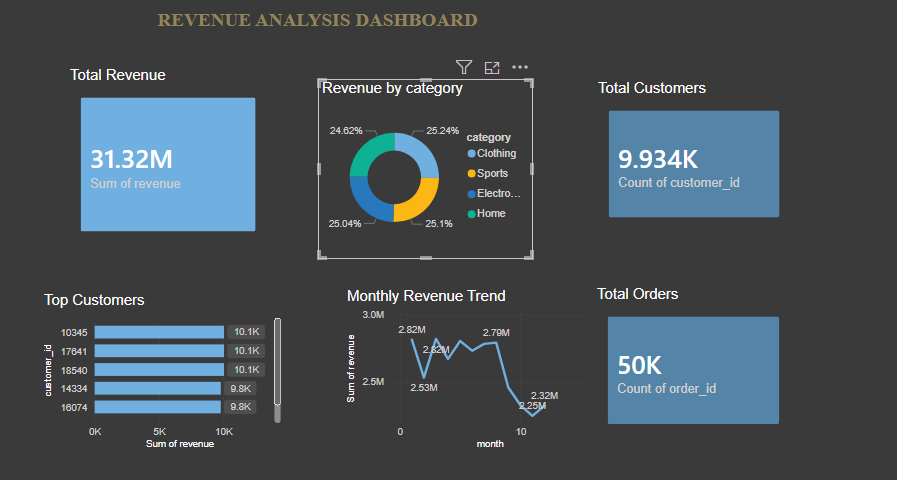

Layout of this report page (visuals, bound fields, positions):
{"tool":"powerbi","page":{"name":"Page 1","canvas":[1280,720],"ordinal":0},"visuals":[{"type":"cardVisual","title":"Total Revenue","fields":{"Data":["Sum(final_sales.revenue)"]},"box":[84,86,255,225],"z":0},{"type":"donutChart","title":"Revenue by category","fields":{"Category":["final_sales.category"],"Y":["Sum(final_sales.revenue)"]},"box":[398.8,102.5,268.8,225],"z":1000},{"type":"barChart","title":"Top Customers","fields":{"Category":["final_sales.customer_id"],"Y":["Sum(final_sales.revenue)"]},"box":[51,367,306,203],"z":2000},{"type":"lineChart","title":"Monthly Revenue Trend","fields":{"Y":["Sum(final_sales.revenue)"],"Category":["final_sales.month"]},"box":[430,362,312,208],"z":3000},{"type":"textbox","box":[179,10,439,41],"z":4000},{"type":"cardVisual","title":"Total Customers","fields":{"Data":["Count(final_sales.customer_id)"]},"box":[743.8,102.5,250,191.2],"z":5000},{"type":"cardVisual","title":"Total Orders","fields":{"Data":["Count(final_sales.order_id)"]},"box":[742,360,251,192],"z":6000}]}

Visuals, with their boxes on the page's 1280x720 design canvas (x1, y1, x2, y2). These are canvas units, not pixel positions in the 897x480 screenshot, which may show the page scaled, cropped or inside an application window:
"Total Revenue" cardVisual: (84, 86, 339, 311)
"Revenue by category" donutChart: (399, 102, 668, 328)
"Top Customers" barChart: (51, 367, 357, 570)
"Monthly Revenue Trend" lineChart: (430, 362, 742, 570)
textbox: (179, 10, 618, 51)
"Total Customers" cardVisual: (744, 102, 994, 294)
"Total Orders" cardVisual: (742, 360, 993, 552)
